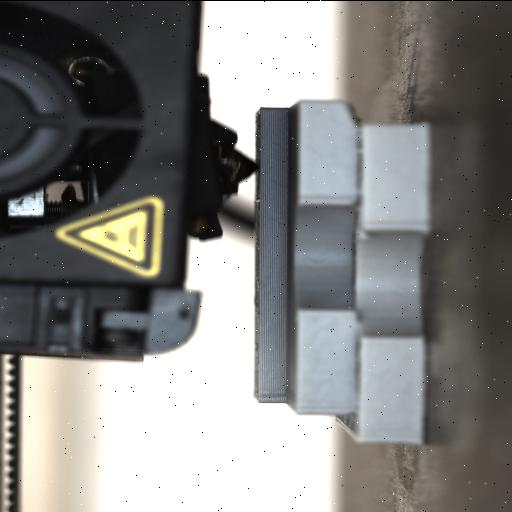layer_shift: (342, 100, 370, 444)
